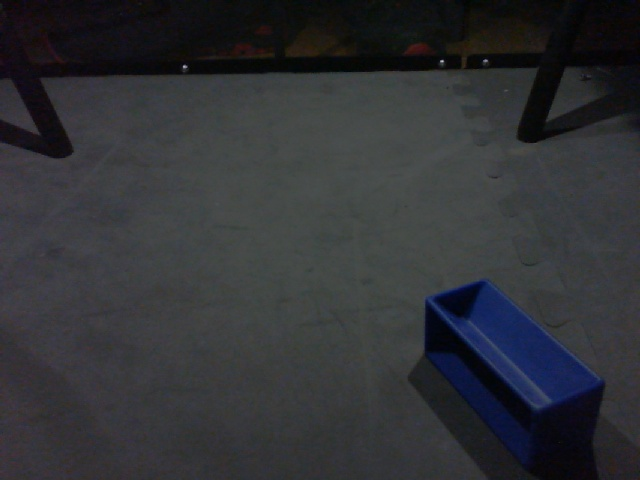BlueSample: (418, 276, 608, 463)
